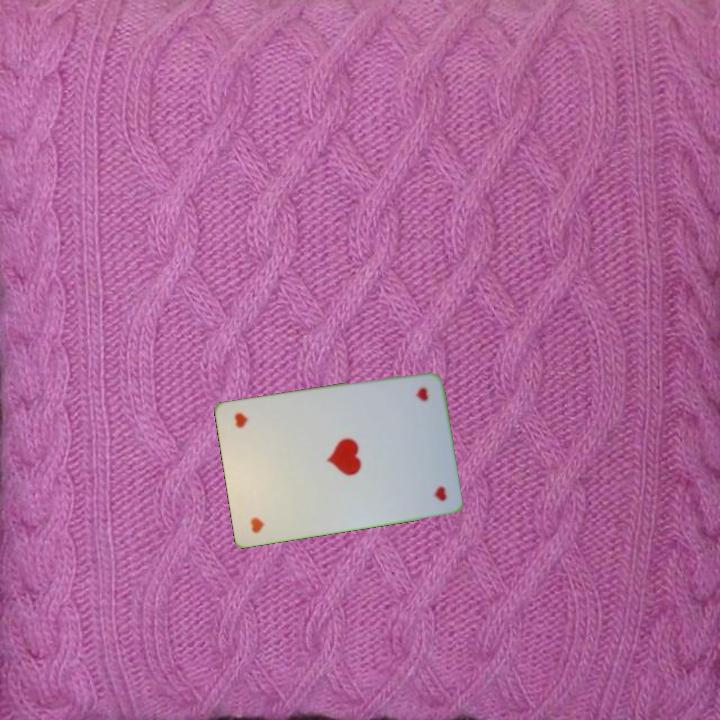h_a.png: (376, 378, 443, 453), (234, 463, 301, 537)
